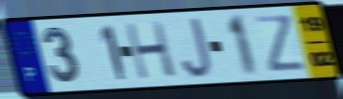1: (227, 12, 262, 79), (98, 24, 128, 82)
3: (41, 25, 80, 87)
H: (123, 20, 179, 82)
J: (180, 16, 214, 80)
Z: (253, 13, 309, 74)
